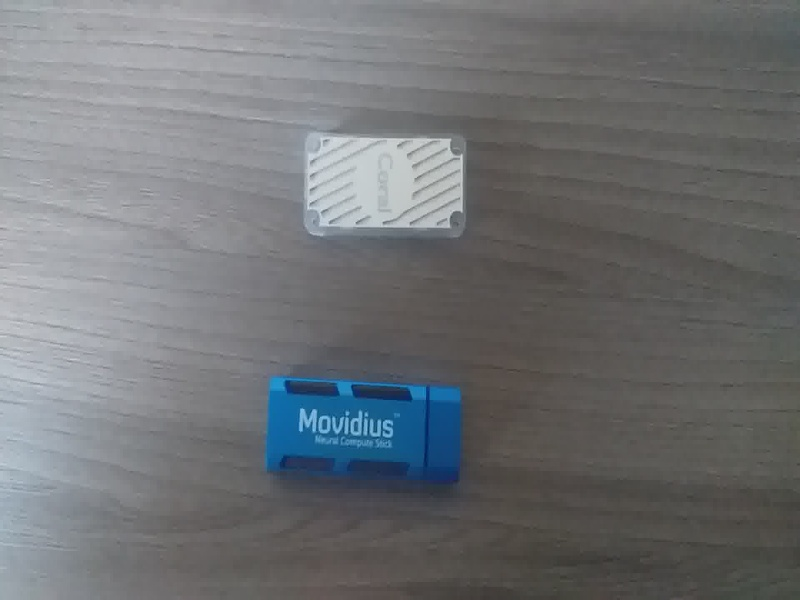coral: (293, 126, 480, 251)
movidius: (262, 361, 466, 507)
